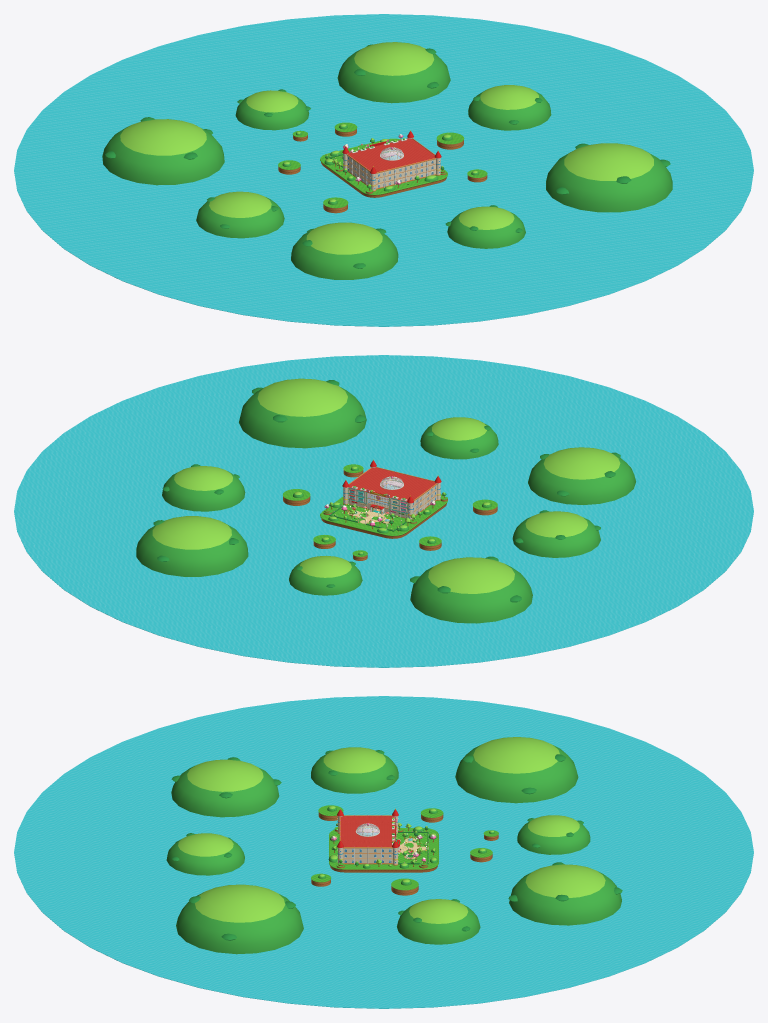
The model's file is grove_exterior.glb.
3 views of the same model, one above another, from view 1: azimuth 30°, elevation 25°; view 2: azimuth 150°, elevation 25°; view 3: azimuth 270°, elevation 25° (orthographic).
Parts seen in each view (by area): view 1: Backdrop_Sea, Backdrop_Hill_7, Backdrop_Hill_3, Backdrop_Hill_1, Backdrop_Hill_5, Backdrop_Hill_4, Backdrop_Hill_0, Backdrop_Hill_6, Backdrop_Hill_2, Mall_Roof, Backdrop_Islets, GrovePark_Island; view 2: Backdrop_Sea, Backdrop_Hill_7, Backdrop_Hill_3, Backdrop_Hill_1, Backdrop_Hill_5, Backdrop_Hill_4, Backdrop_Hill_0, Backdrop_Hill_6, Backdrop_Hill_2, GrovePark_Island, Mall_Roof, Backdrop_Islets; view 3: Backdrop_Sea, Backdrop_Hill_7, Backdrop_Hill_3, Backdrop_Hill_1, Backdrop_Hill_5, Backdrop_Hill_4, Backdrop_Hill_0, Backdrop_Hill_6, Backdrop_Hill_2, GrovePark_Island, Mall_Roof, Backdrop_Islets.
Boxes of the visible parts, x1,y1,x2,y2 form: Backdrop_Sea: (14, 14, 753, 326); Backdrop_Hill_7: (546, 143, 672, 212); Backdrop_Hill_3: (102, 117, 224, 185); Backdrop_Hill_1: (337, 42, 450, 103); Backdrop_Hill_5: (291, 222, 398, 279); Backdrop_Hill_4: (196, 191, 284, 238); Backdrop_Hill_0: (468, 85, 551, 130); Backdrop_Hill_6: (445, 205, 525, 248); Backdrop_Hill_2: (235, 89, 310, 130); Mall_Roof: (346, 138, 436, 173); Backdrop_Islets: (278, 122, 487, 213); GrovePark_Island: (320, 138, 447, 197); Backdrop_Sea: (14, 355, 753, 667); Backdrop_Hill_7: (239, 378, 366, 448); Backdrop_Hill_3: (410, 556, 532, 623); Backdrop_Hill_1: (136, 516, 248, 576); Backdrop_Hill_5: (528, 447, 635, 504); Backdrop_Hill_4: (512, 510, 600, 557); Backdrop_Hill_0: (162, 464, 245, 511); Backdrop_Hill_6: (420, 417, 498, 459); Backdrop_Hill_2: (289, 555, 362, 595); GrovePark_Island: (320, 495, 447, 538); Mall_Roof: (348, 467, 437, 501); Backdrop_Islets: (283, 464, 497, 560); Backdrop_Sea: (14, 696, 753, 1008); Backdrop_Hill_7: (176, 884, 303, 954); Backdrop_Hill_3: (455, 737, 578, 803); Backdrop_Hill_1: (508, 862, 622, 925); Backdrop_Hill_5: (171, 757, 281, 817); Backdrop_Hill_4: (311, 747, 398, 793); Backdrop_Hill_0: (397, 899, 480, 944); Backdrop_Hill_6: (166, 833, 244, 875); Backdrop_Hill_2: (517, 815, 590, 854); GrovePark_Island: (329, 828, 438, 872); Mall_Roof: (339, 815, 395, 848); Backdrop_Islets: (311, 805, 498, 895).
Bounding box in the file's own units: 600 × 32.4 × 600.
Materials: 36 (10 with a texture image).
